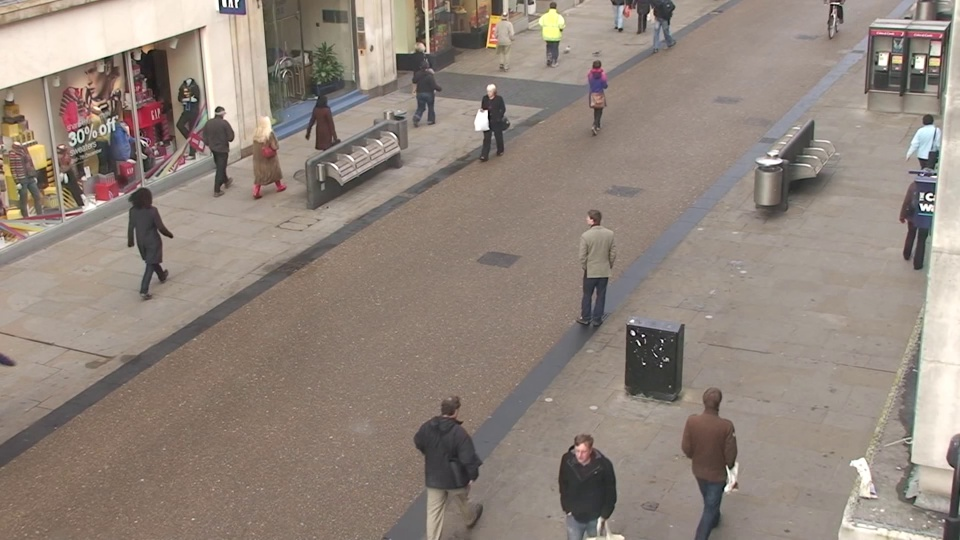pedestrian: (681, 378, 738, 540), (425, 385, 480, 540), (553, 426, 609, 540), (121, 183, 169, 294), (575, 203, 613, 323), (901, 110, 947, 208), (250, 110, 285, 202), (204, 101, 240, 190), (307, 90, 339, 178), (478, 81, 508, 167), (410, 58, 439, 137), (584, 56, 610, 136), (407, 40, 434, 114), (493, 8, 516, 74)
